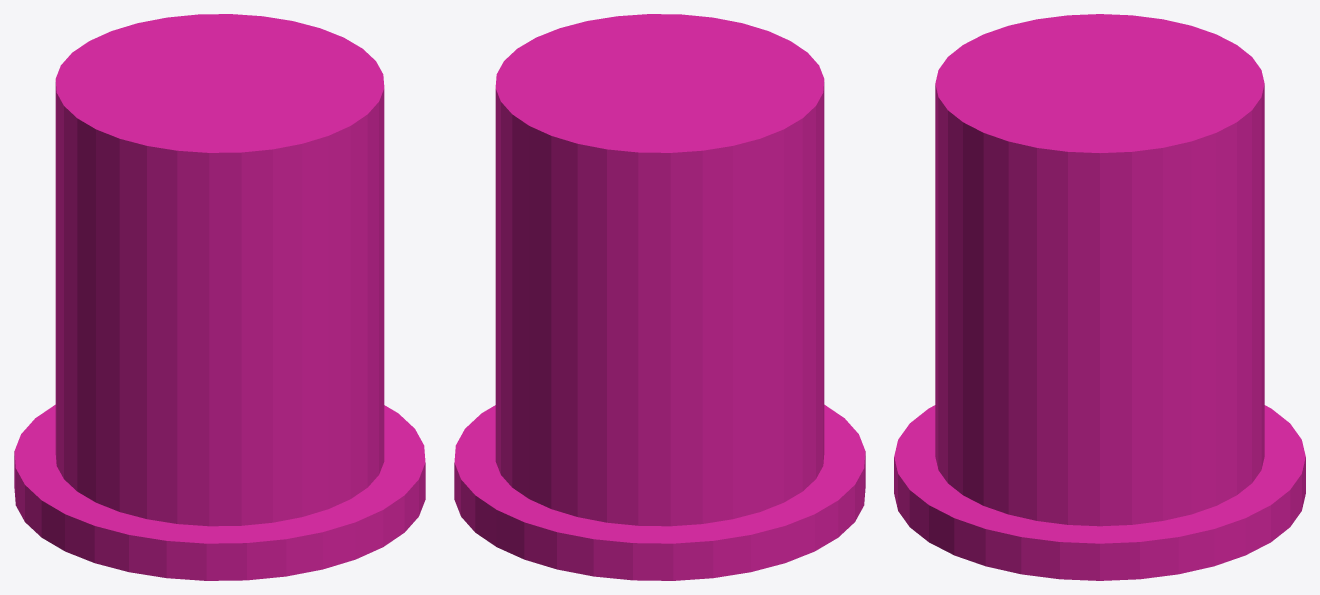
The model's file is hat4.fbx.
3 renders of one model, left to right at view 1: azimuth 30°, elevation 25°; view 2: azimuth 150°, elevation 25°; view 3: azimuth 270°, elevation 25°, orthographic.
Visible parts, largest first — view 1: Cylinder.001, Cylinder; view 2: Cylinder.001, Cylinder; view 3: Cylinder.001, Cylinder.
Part boxes in pixels (<box>): Cylinder.001: <box>55,14,384,526</box>; Cylinder: <box>14,404,425,580</box>; Cylinder.001: <box>495,14,824,526</box>; Cylinder: <box>454,404,865,580</box>; Cylinder.001: <box>935,14,1264,526</box>; Cylinder: <box>894,405,1305,580</box>.
Bounding box in the file's own units: 200 × 220 × 200.
